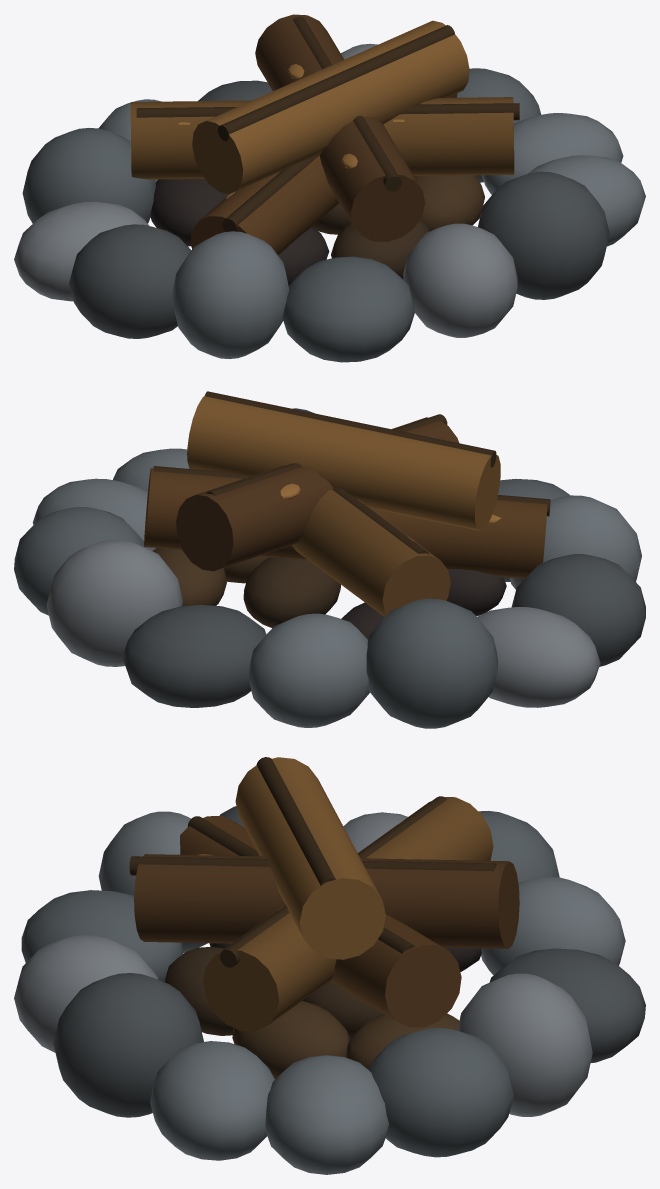
The model's file is CMU3DCampfireCloud.glb.
3 views of the same model, one above another, from view 1: azimuth 30°, elevation 25°; view 2: azimuth 150°, elevation 25°; view 3: azimuth 270°, elevation 25° (orthographic). The views are drawn at different scales.
Parts seen in each view (by area): view 1: burnt wood log 2, burnt wood log 1, individual ring stone 11, individual ring stone 8, burnt wood log 3, individual ring stone 9, individual ring stone 7, individual ring stone 10, individual ring stone 5, individual ring stone 6, burnt wood log 0, individual ring stone 0 (+13 smaller); view 2: burnt wood log 2, individual ring stone 5, individual ring stone 2, individual ring stone 3, burnt wood log 0, individual ring stone 4, burnt wood log 3, burnt wood log 1, individual ring stone 6, individual ring stone 7, individual ring stone 1, individual ring stone 8 (+12 smaller); view 3: burnt wood log 3, burnt wood log 2, individual ring stone 11, individual ring stone 1, burnt wood log 1, individual ring stone 2, individual ring stone 0, individual ring stone 12, burnt wood log 0, individual ring stone 4, individual ring stone 3, individual ring stone 10 (+12 smaller).
Part boxes in pixels (bbox=[...]): burnt wood log 2: bbox=[192, 20, 469, 193]; burnt wood log 1: bbox=[130, 97, 514, 179]; individual ring stone 11: bbox=[478, 171, 609, 299]; individual ring stone 8: bbox=[172, 231, 289, 358]; burnt wood log 3: bbox=[255, 14, 425, 241]; individual ring stone 9: bbox=[282, 256, 414, 362]; individual ring stone 7: bbox=[69, 224, 191, 338]; individual ring stone 10: bbox=[403, 223, 517, 337]; individual ring stone 5: bbox=[22, 128, 155, 223]; individual ring stone 6: bbox=[14, 201, 149, 301]; burnt wood log 0: bbox=[190, 93, 457, 255]; individual ring stone 0: bbox=[482, 113, 623, 194]; burnt wood log 2: bbox=[187, 396, 500, 530]; individual ring stone 5: bbox=[366, 598, 497, 728]; individual ring stone 2: bbox=[46, 540, 182, 666]; individual ring stone 3: bbox=[122, 605, 266, 707]; burnt wood log 0: bbox=[144, 468, 547, 578]; individual ring stone 4: bbox=[248, 613, 369, 727]; burnt wood log 3: bbox=[176, 417, 459, 571]; burnt wood log 1: bbox=[187, 452, 450, 616]; individual ring stone 6: bbox=[477, 607, 600, 707]; individual ring stone 7: bbox=[511, 554, 645, 666]; individual ring stone 1: bbox=[14, 507, 145, 615]; individual ring stone 8: bbox=[510, 495, 641, 589]; burnt wood log 3: bbox=[134, 854, 519, 948]; burnt wood log 2: bbox=[235, 757, 385, 959]; individual ring stone 11: bbox=[53, 973, 203, 1117]; individual ring stone 1: bbox=[368, 1028, 513, 1157]; burnt wood log 1: bbox=[203, 797, 493, 1031]; individual ring stone 2: bbox=[457, 973, 592, 1116]; individual ring stone 0: bbox=[265, 1055, 388, 1174]; individual ring stone 12: bbox=[150, 1041, 274, 1160]; burnt wood log 0: bbox=[180, 816, 461, 1027]; individual ring stone 4: bbox=[481, 876, 625, 975]; individual ring stone 3: bbox=[490, 948, 645, 1062]; individual ring stone 10: bbox=[14, 935, 157, 1052].
Bounding box in the file's own units: 0.696 × 0.237 × 0.5899.
